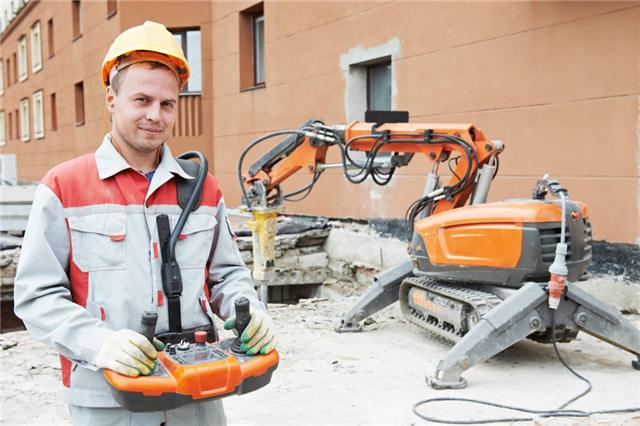helmet: (93, 10, 204, 158)
